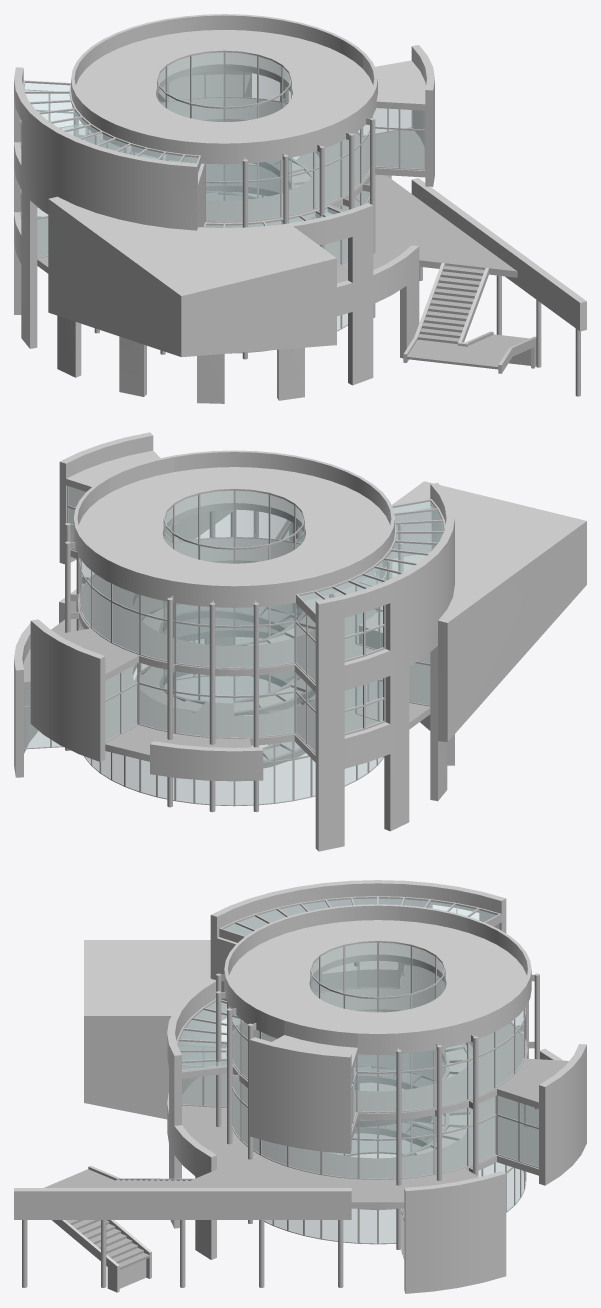
The model's file is theatre_object.glb.
The picture shows the model from 3 angles, top to bottom: view 1: azimuth 30°, elevation 25°; view 2: azimuth 150°, elevation 25°; view 3: azimuth 270°, elevation 25°; orthographic projection. The views are drawn at different scales.
Visible parts, largest first — view 1: THEATRE_MOD; view 2: THEATRE_MOD; view 3: THEATRE_MOD.
Boxes of the visible parts, left/top/right/bottom form: THEATRE_MOD: left=14, top=14, right=586, bottom=403; THEATRE_MOD: left=14, top=432, right=586, bottom=851; THEATRE_MOD: left=14, top=880, right=586, bottom=1293.
Bounding box in the file's own units: 2456 × 1485 × 3262.
